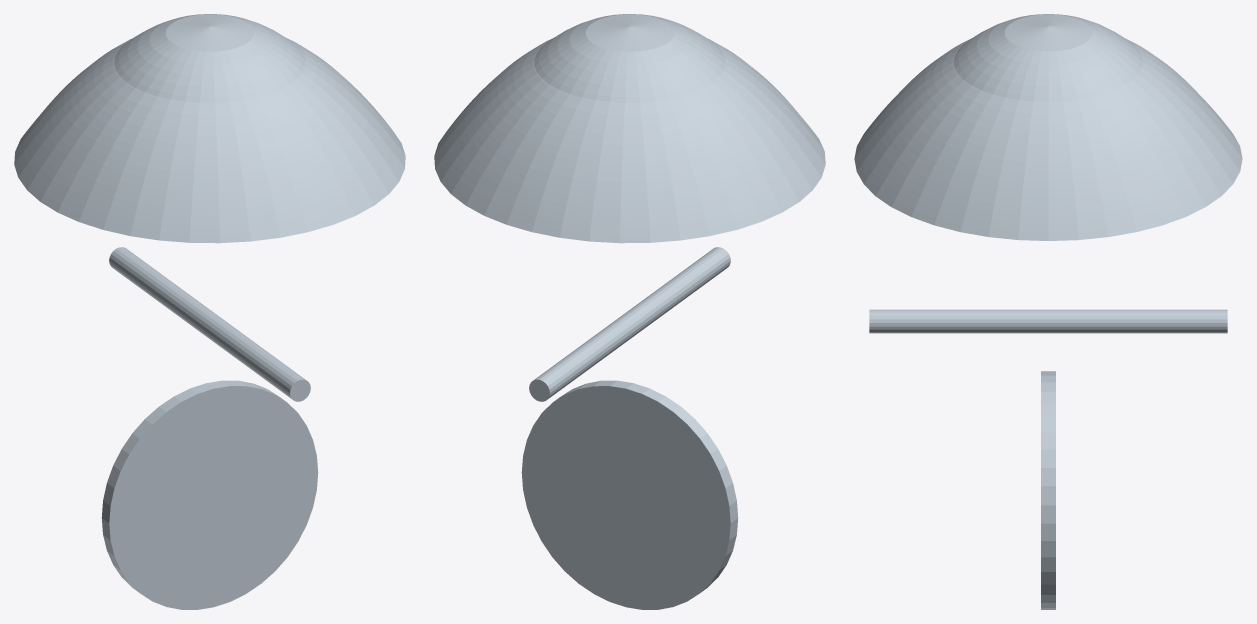
File: 1789180024697_Champagne_Coupe_glb.glb
3 renders of one model, left to right at view 1: azimuth 30°, elevation 25°; view 2: azimuth 150°, elevation 25°; view 3: azimuth 270°, elevation 25°, orthographic.
Visible parts, largest first — view 1: world; view 2: world; view 3: world.
Boxes of the visible parts, x1,y1,x2,y2 form: world: (14,14,405,609); world: (434,14,825,609); world: (854,14,1242,609).
Bounding box in the file's own units: 0.13 × 0.2115 × 0.13.
